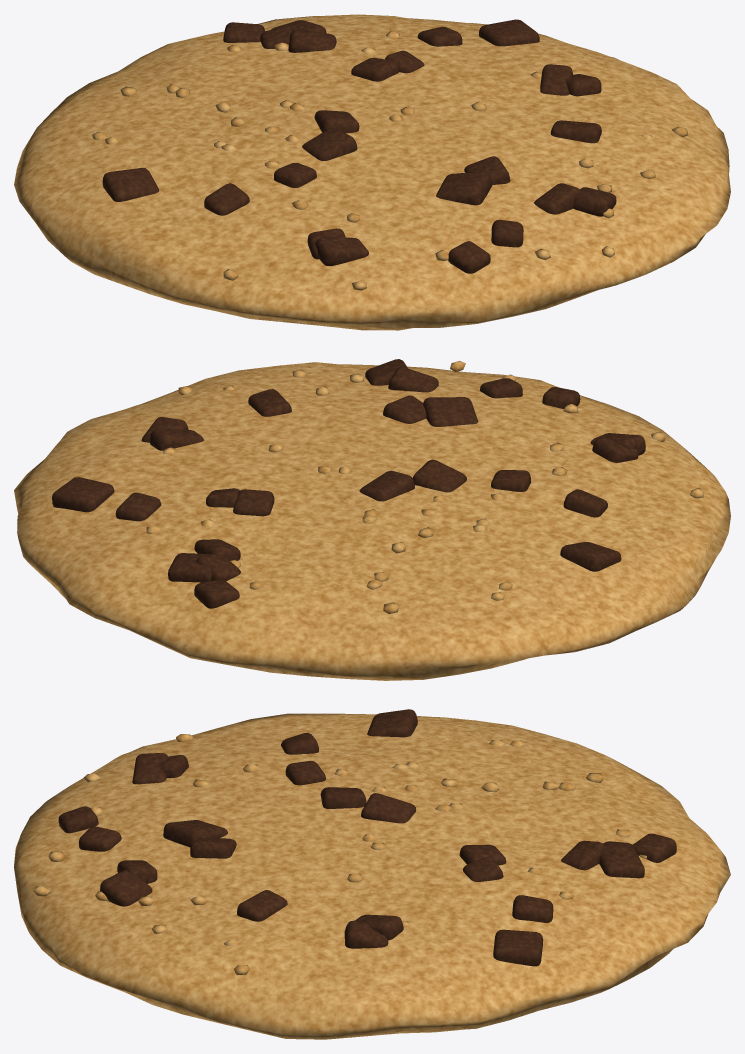
The model's file is cookie.glb.
3 views of the same model, one above another, from view 1: azimuth 30°, elevation 25°; view 2: azimuth 150°, elevation 25°; view 3: azimuth 270°, elevation 25° (orthographic).
Visible parts, largest first — view 1: cookie; view 2: cookie; view 3: cookie.
Boxes of the visible parts, box(x1,y1,x2,y2) form: cookie: box(14, 14, 730, 330); cookie: box(14, 359, 730, 680); cookie: box(14, 709, 730, 1039).
Size of the model in its own units: 0.0704 by 0.0114 by 0.069.
Materials: 1 (1 with a texture image).
